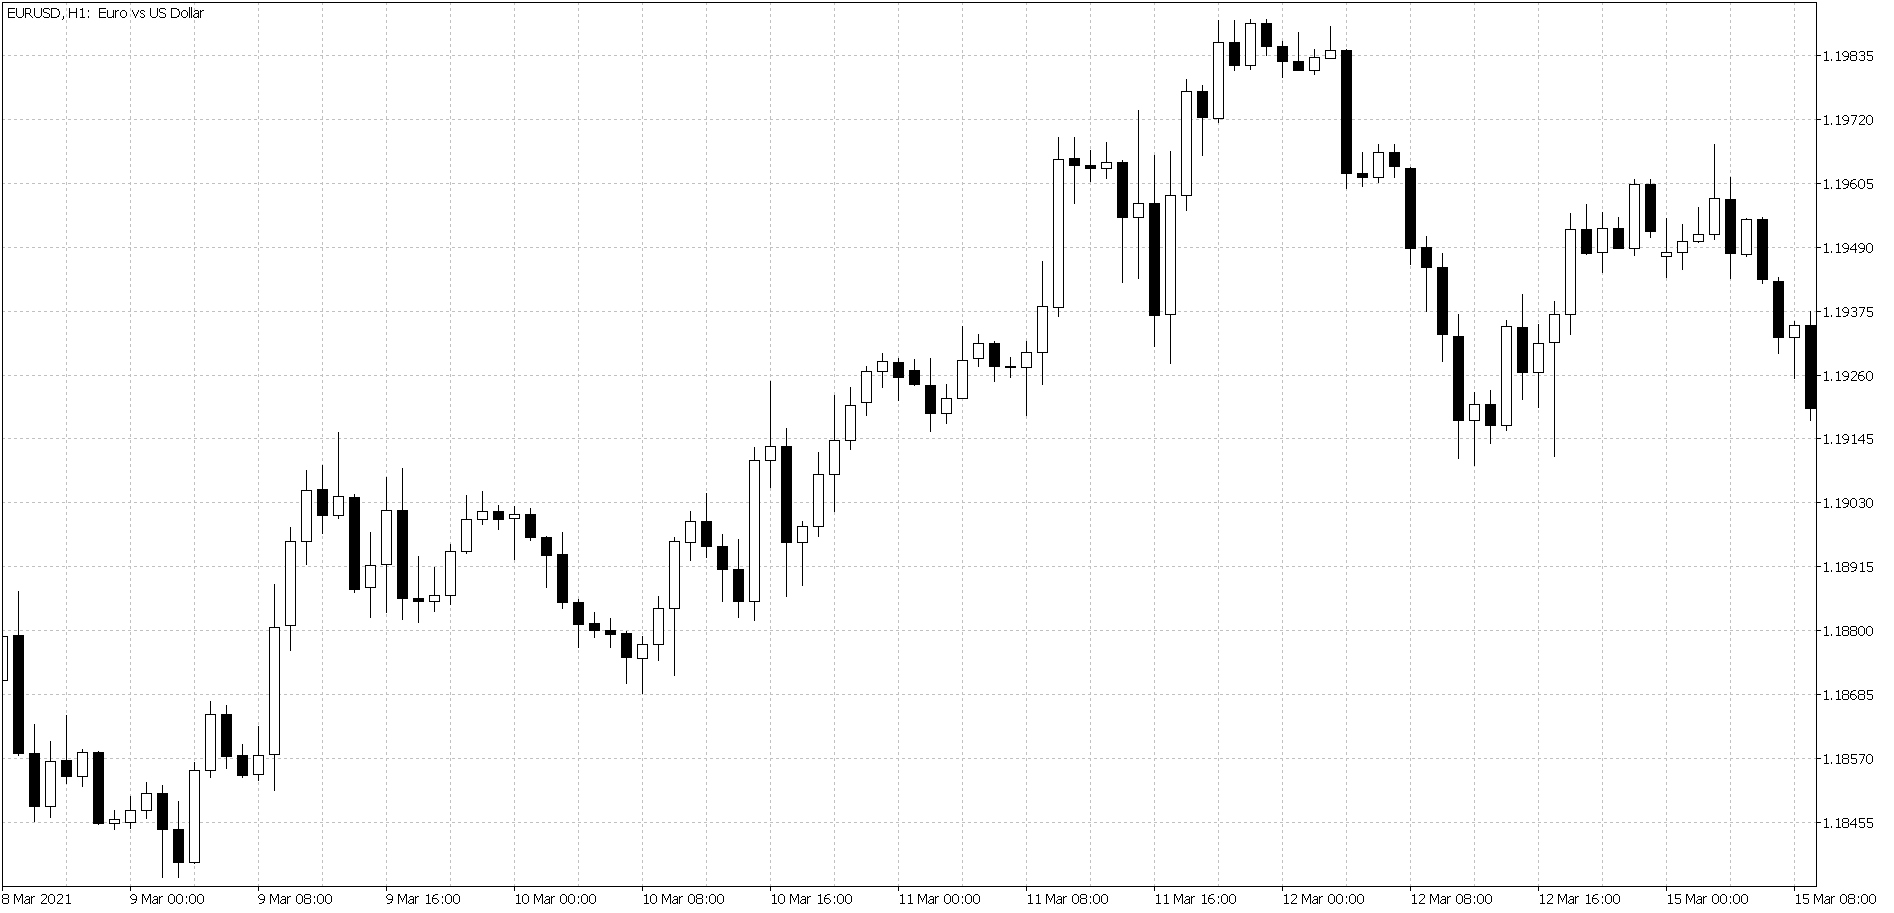bullishEngulfing: (1226, 13, 1259, 81)
eveningStar: (746, 376, 794, 626)
morningStar: (1643, 159, 1691, 287)
shootingStar: (1290, 27, 1305, 81)
